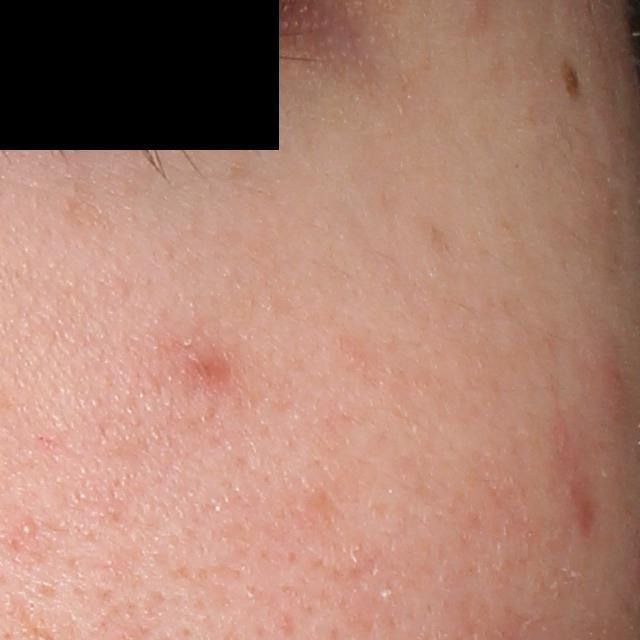comedo: (19, 520, 36, 536)
melasma: (57, 177, 125, 238)
nevus: (558, 59, 582, 108)
papule: (189, 351, 221, 387)
